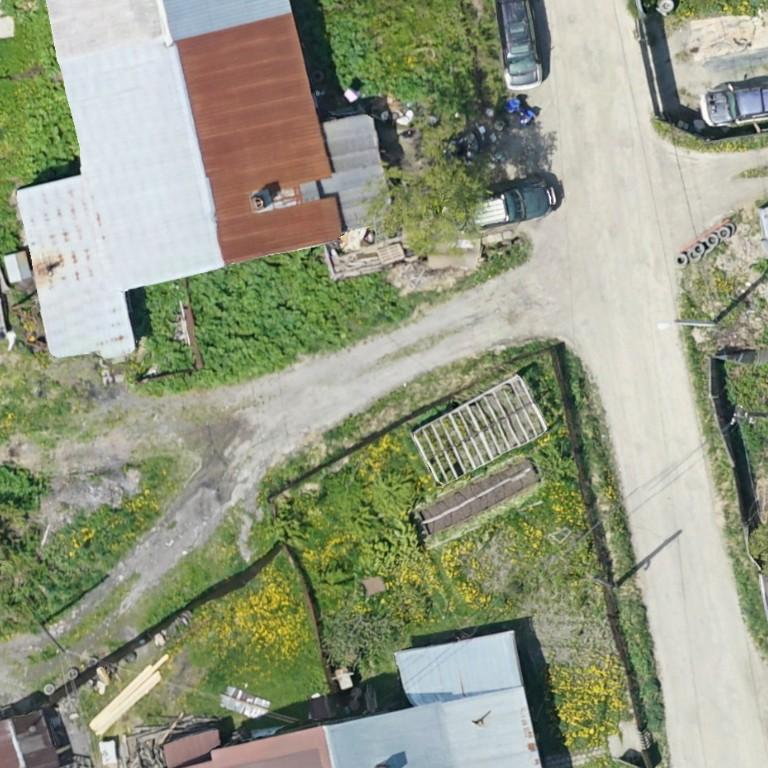hogweed: (151, 249, 402, 392), (21, 72, 77, 180), (133, 279, 190, 371), (310, 16, 370, 84)
